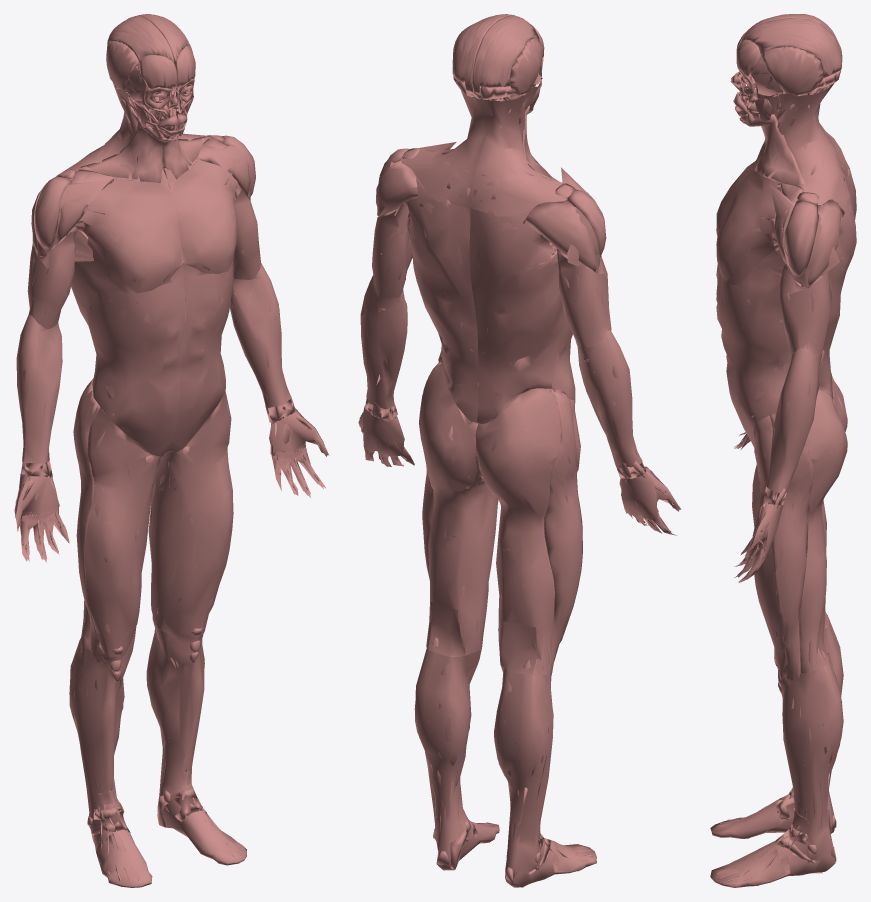
Rendered from muscle.plain.glb.
The picture shows the model from 3 angles, left to right: view 1: azimuth 30°, elevation 25°; view 2: azimuth 150°, elevation 25°; view 3: azimuth 270°, elevation 25°; orthographic projection. The views are drawn at different scales.
Visible parts, largest first — view 1: Investing abdominal fascia.r.001, Fascia lata.l.001, Fascia lata.r.001, Crural fascia.l.001, Crural fascia.r.001, Pectoral fascia.r.001, Investing abdominal fascia.l.001, Pectoral fascia.l.001, Antebrachial fascia.r.001, Antebrachial fascia.l.001, Brachial fascia.r.001, Iliotibial tract.r.001 (+15 smaller); view 2: Investing abdominal fascia.r.001, Fascia lata.r.001, Fascia lata.l.001, Crural fascia.r.001, Investing abdominal fascia.l.001, Crural fascia.l.001, Superficial investing cervical fascia.r.001, Iliotibial tract.r.001, Antebrachial fascia.r.001, Antebrachial fascia.l.001, Superficial investing cervical fascia.l.001, Brachial fascia.r.001 (+13 smaller); view 3: Investing abdominal fascia.l.001, Crural fascia.l.001, Fascia lata.l.001, Iliotibial tract.l.001, Superficial investing cervical fascia.l.001, Pectoral fascia.l.001, Antebrachial fascia.l.001, Brachial fascia.l.001, Epicranial aponeurosis.l.001, Crural fascia.r.001, Temporoparietalis muscle.l.001, Platysma.l.001 (+18 smaller).
Part boxes in pixels (box(x1,y1,x2,y2)): Investing abdominal fascia.r.001: box(71, 238, 185, 456); Fascia lata.l.001: box(148, 390, 233, 636); Fascia lata.r.001: box(73, 378, 166, 657); Crural fascia.l.001: box(146, 619, 246, 865); Crural fascia.r.001: box(69, 639, 152, 887); Pectoral fascia.r.001: box(78, 178, 183, 293); Investing abdominal fascia.l.001: box(168, 261, 233, 451); Pectoral fascia.l.001: box(168, 158, 237, 273); Antebrachial fascia.r.001: box(16, 315, 62, 463); Antebrachial fascia.l.001: box(230, 263, 291, 407); Brachial fascia.r.001: box(27, 232, 75, 329); Iliotibial tract.r.001: box(73, 379, 105, 663); Investing abdominal fascia.r.001: box(469, 206, 575, 424); Fascia lata.r.001: box(475, 388, 582, 676); Fascia lata.l.001: box(419, 362, 498, 655); Crural fascia.r.001: box(494, 664, 596, 887); Investing abdominal fascia.l.001: box(403, 178, 478, 423); Crural fascia.l.001: box(415, 649, 499, 870); Superficial investing cervical fascia.r.001: box(470, 86, 567, 216); Iliotibial tract.r.001: box(544, 389, 582, 673); Antebrachial fascia.r.001: box(575, 330, 642, 467); Antebrachial fascia.l.001: box(360, 275, 407, 409); Superficial investing cervical fascia.l.001: box(401, 79, 484, 207); Brachial fascia.r.001: box(557, 251, 611, 347); Investing abdominal fascia.l.001: box(716, 196, 856, 447); Crural fascia.l.001: box(710, 653, 843, 887); Fascia lata.l.001: box(752, 388, 847, 673); Iliotibial tract.l.001: box(770, 411, 813, 680); Superficial investing cervical fascia.l.001: box(754, 83, 849, 205); Pectoral fascia.l.001: box(716, 170, 778, 285); Antebrachial fascia.l.001: box(766, 348, 822, 492); Brachial fascia.l.001: box(779, 260, 832, 356); Epicranial aponeurosis.l.001: box(740, 18, 842, 77); Crural fascia.r.001: box(710, 615, 843, 838); Temporoparietalis muscle.l.001: box(761, 46, 823, 95); Platysma.l.001: box(740, 114, 806, 189).
Bounding box in the file's own units: 0.6717 × 1.7 × 0.2694.
